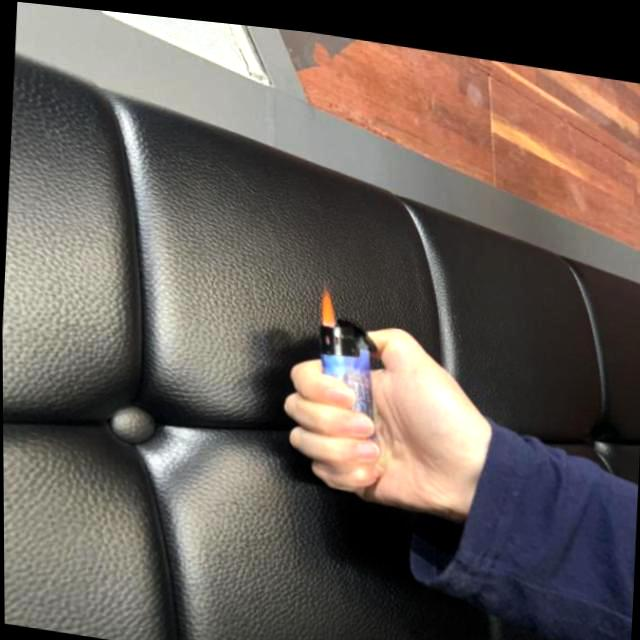fire: (318, 282, 336, 320)
